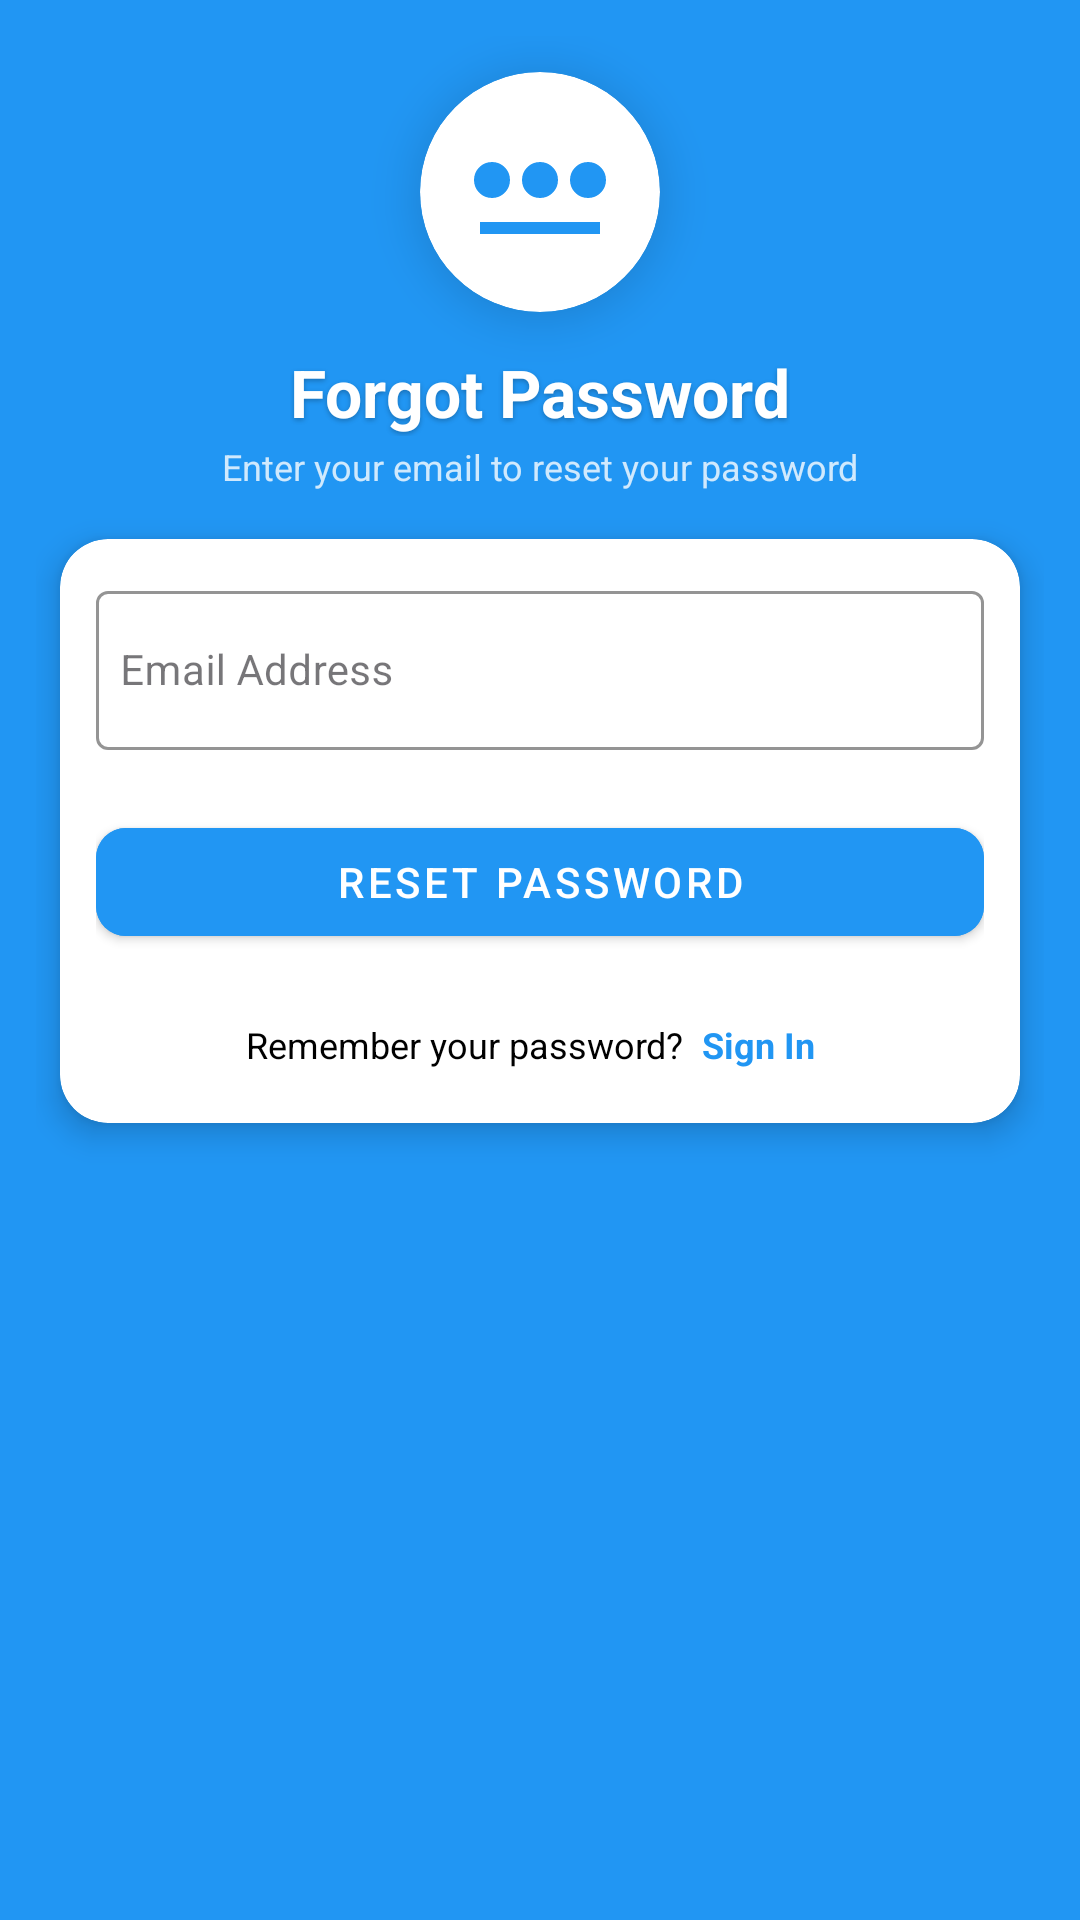

Icon bounding boxes for this 1080 × 1920 phone screenshot, format (x1, y1, x2, y2):
forget password: (474, 162, 606, 234)
